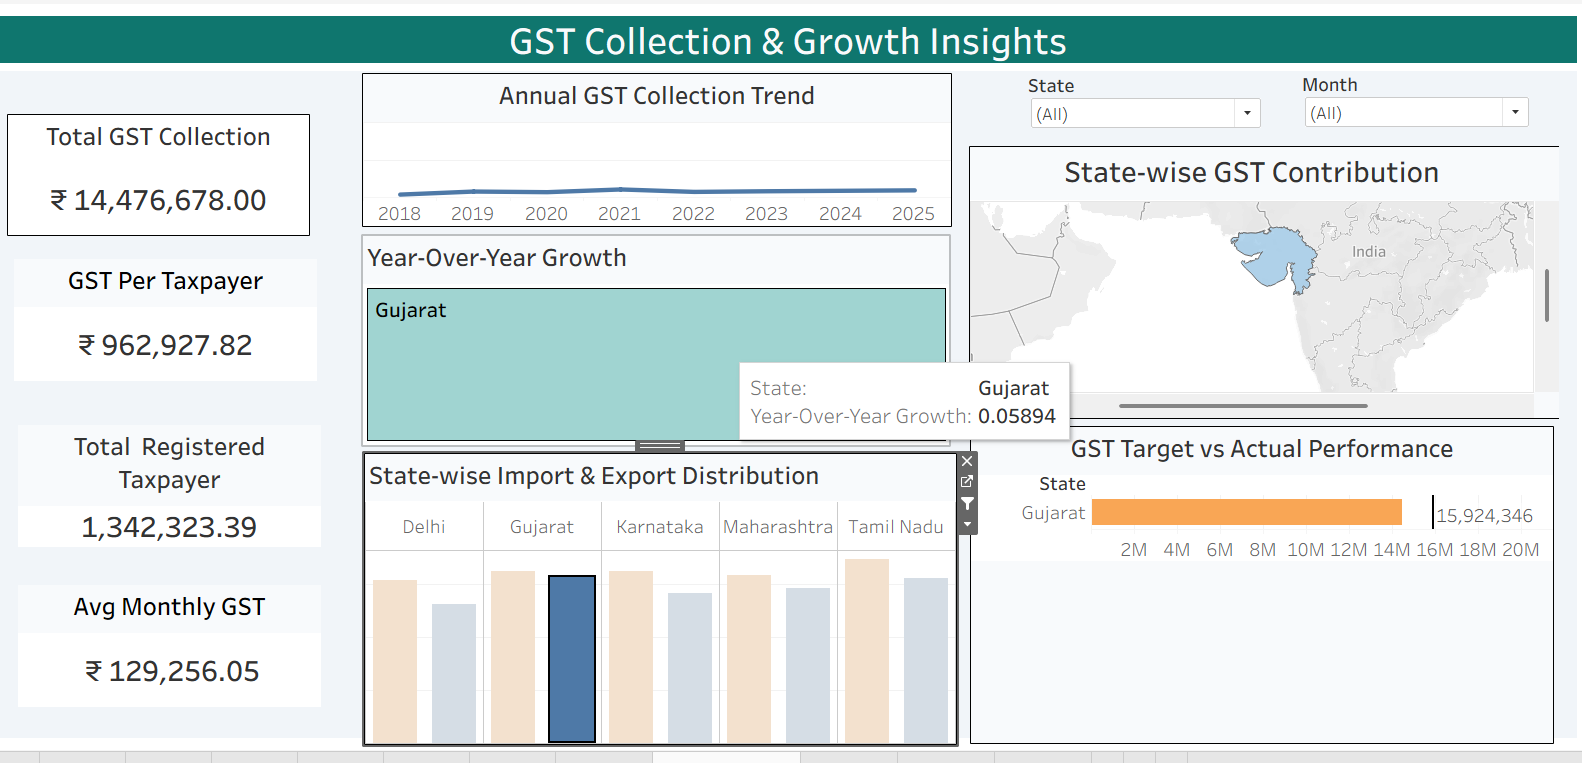

Layout of this report page (visuals, bound fields, positions):
{"tool":"tableau","page":{"name":"Dashboard 1","canvas":[1000,1000],"units":"permille","ordinal":0},"visuals":[{"type":"title","box":[5,10.7,990,73.7]},{"type":"blank","box":[5,84.4,990,904.8]},{"type":"filter","title":"Sheet 1","param":"[federated.0zzuh3a1ofu35w14y1ttt1tggn4h].[none:Calculation_596164043213365250:nk","box":[820.2,90.5,143.2,75.8]},{"type":"filter","title":"Sheet 1","param":"[federated.0zzuh3a1ofu35w14y1ttt1tggn4h].[none:State:nk]","box":[649.7,91.7,146.9,75.8]},{"type":"worksheet","title":"Sheet 6","mark":"Line","rows":["GST_Collection_Cr"],"cols":["Year"],"box":[234.4,92.5,367.8,206.4]},{"type":"worksheet","title":"Sheet 1","mark":"Automatic","box":[13,147.9,188.7,163.8]},{"type":"worksheet","title":"Sheet 7","mark":"Multipolygon","box":[612.6,190.7,368.2,365.5]},{"type":"worksheet","title":"Sheet 10","mark":"Automatic","box":[235,311,365.3,280.2]},{"type":"worksheet","title":"Sheet 4","mark":"Automatic","box":[17.6,342.3,188.7,163.8]},{"type":"worksheet","title":"Sheet 3","mark":"Automatic","box":[19.9,564.8,188.7,163.8]},{"type":"worksheet","title":"Sheet 8","mark":"Bar","rows":["State"],"cols":["GST_Collection_Cr"],"box":[613.5,565.7,364.1,426.3]},{"type":"worksheet","title":"Sheet 11","mark":"Automatic","cols":["State"],"box":[235.7,601.9,369.7,391.4]},{"type":"worksheet","title":"Sheet 2","mark":"Automatic","box":[19.9,778.7,188.7,163.8]}]}

Visuals, with their boxes on the dashboard's canvas, which has no fixed pixel size, in thousandths of its width and height (x1, y1, x2, y2). These are canvas units, not pixel positions in the 1582x763 screenshot, which may show the page scaled, cropped or inside an application window:
title: x1=5 y1=11 x2=995 y2=84
blank: x1=5 y1=84 x2=995 y2=989
"Sheet 1" filter: x1=820 y1=90 x2=963 y2=166
"Sheet 1" filter: x1=650 y1=92 x2=797 y2=168
"Sheet 6" worksheet (Line marks): x1=234 y1=92 x2=602 y2=299
"Sheet 1" worksheet: x1=13 y1=148 x2=202 y2=312
"Sheet 7" worksheet (Multipolygon marks): x1=613 y1=191 x2=981 y2=556
"Sheet 10" worksheet: x1=235 y1=311 x2=600 y2=591
"Sheet 4" worksheet: x1=18 y1=342 x2=206 y2=506
"Sheet 3" worksheet: x1=20 y1=565 x2=209 y2=729
"Sheet 8" worksheet (Bar marks): x1=614 y1=566 x2=978 y2=992
"Sheet 11" worksheet: x1=236 y1=602 x2=605 y2=993
"Sheet 2" worksheet: x1=20 y1=779 x2=209 y2=942
